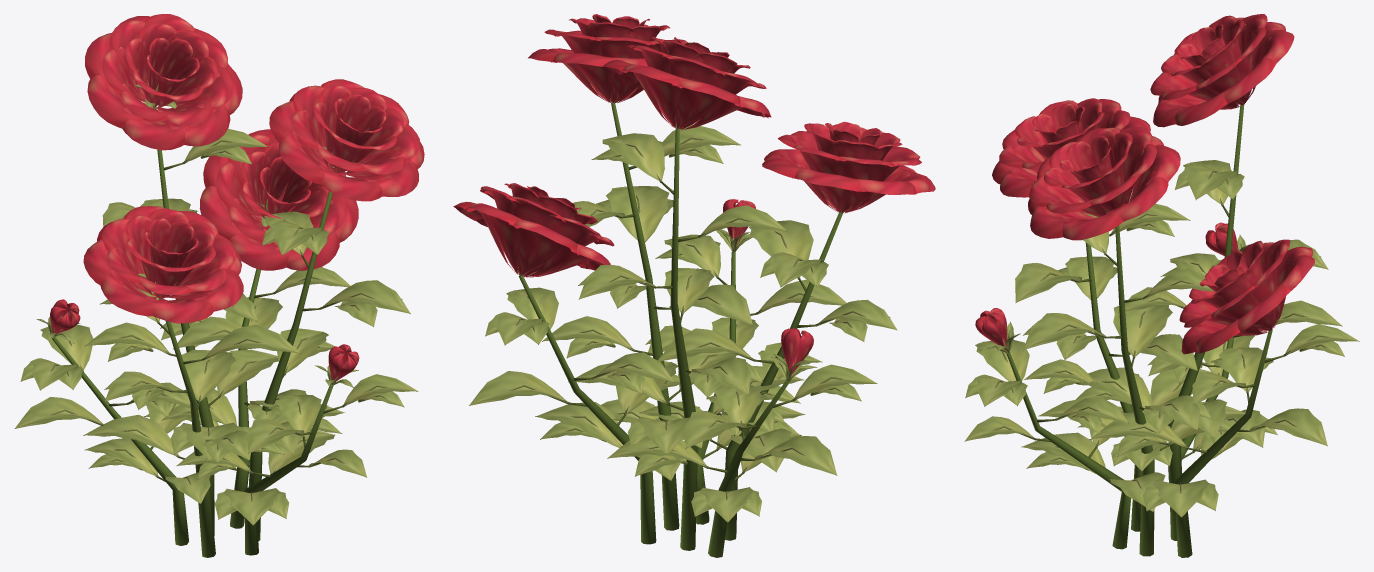
The model's file is rose_mature.glb.
The picture shows the model from 3 angles, left to right: view 1: azimuth 30°, elevation 25°; view 2: azimuth 150°, elevation 25°; view 3: azimuth 270°, elevation 25°; orthographic projection. The views are drawn at different scales.
Visible parts, largest first — view 1: petals.001, leaves.002, stems.002; view 2: leaves.002, petals.001, stems.002; view 3: leaves.002, petals.001, stems.002.
Part boxes in pixels (x1,y1,x2,y2): petals.001: (50,14,424,382); leaves.002: (15,83,417,524); stems.002: (14,85,417,557); leaves.002: (470,98,896,521); petals.001: (453,14,935,376); stems.002: (469,100,897,557); leaves.002: (965,160,1358,517); petals.001: (975,14,1314,354); stems.002: (964,104,1359,557).
Size of the model in its own units: 0.7184 by 0.977 by 0.6922.
